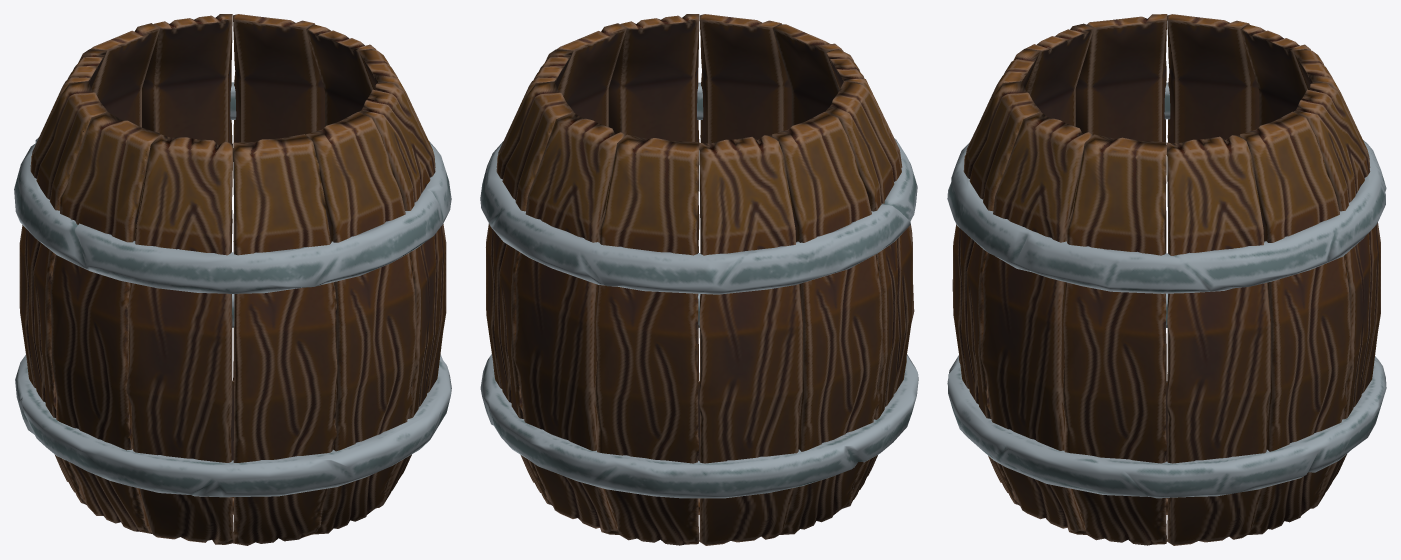
Rendered from Barrel1.glb.
The picture shows the model from 3 angles, left to right: view 1: azimuth 30°, elevation 25°; view 2: azimuth 150°, elevation 25°; view 3: azimuth 270°, elevation 25°; orthographic projection.
Parts seen in each view (by area): view 1: Barrel3; view 2: Barrel3; view 3: Barrel3.
Boxes of the visible parts, x1,y1,x2,y2 form: Barrel3: [14, 14, 451, 545]; Barrel3: [480, 14, 918, 545]; Barrel3: [947, 14, 1386, 545].
Size of the model in its own units: 2 by 2 by 2.
Materials: 1 (1 with a texture image).
